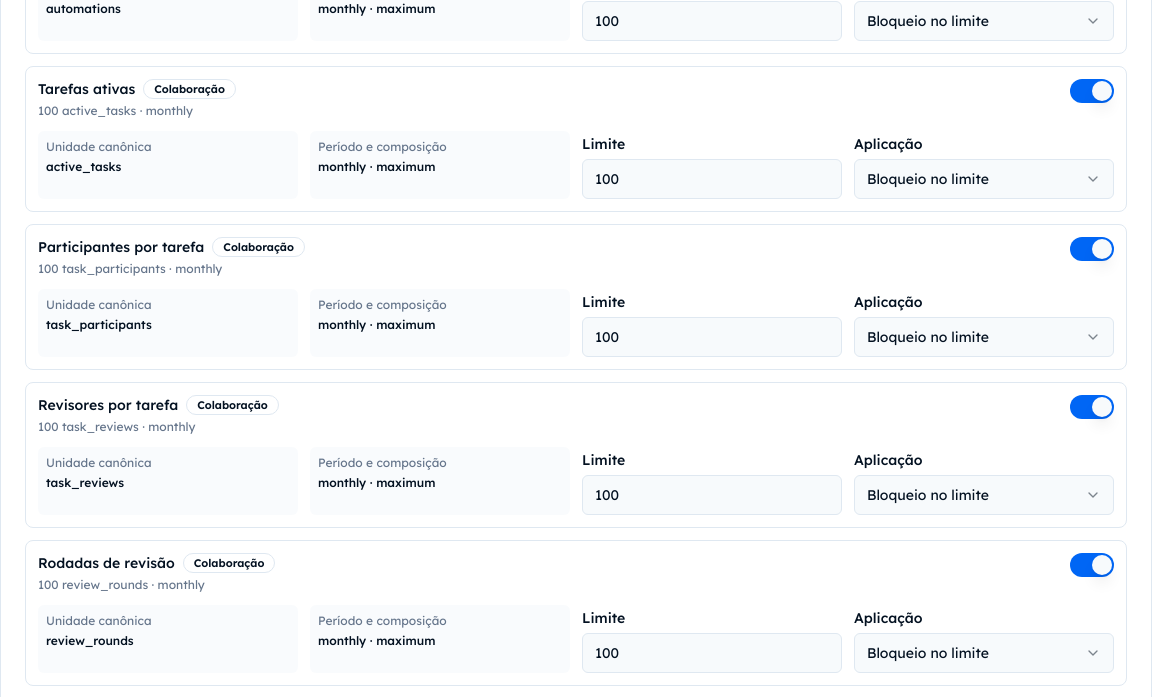
Scenario: PlatformCommercialCatalogPanel › blocks public publication when real AI cost evidence is insufficient
(page scrolled)
Replace the text in the 3rd number field labelled "Limite" with "9" at (712, 337), box [582,317,842,357]
(page scrolled)
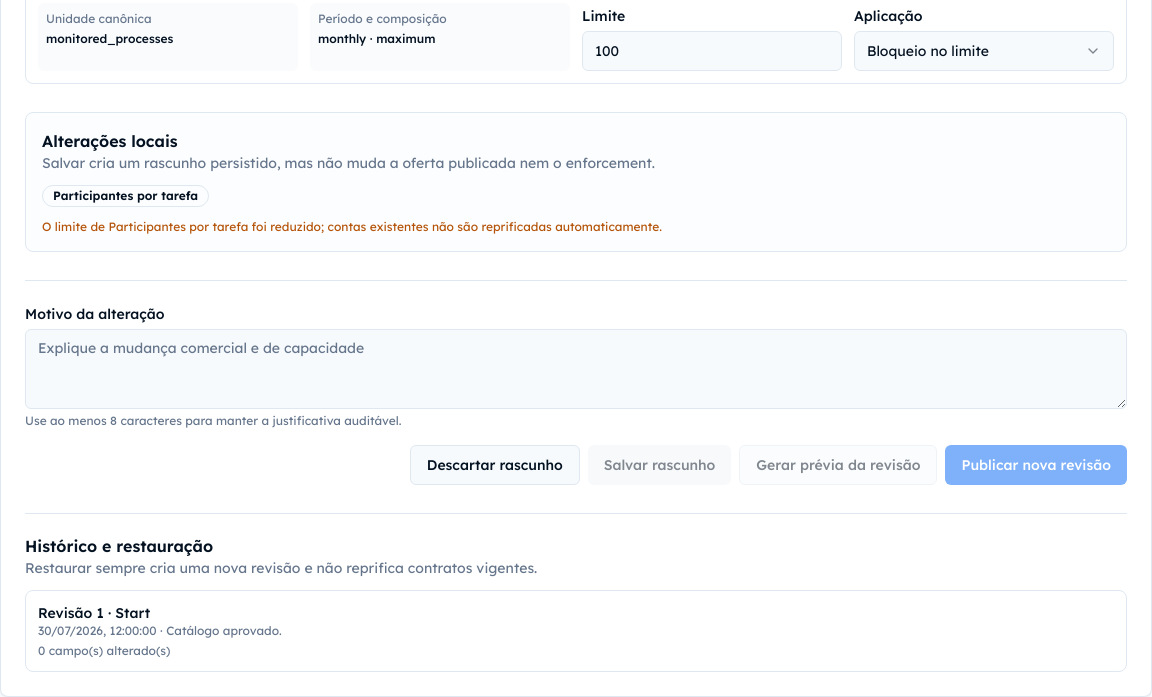
Type "Preparar publicação com novo limite." into the text box labelled "Motivo da alteração" at (576, 369), box [25,329,1127,409]
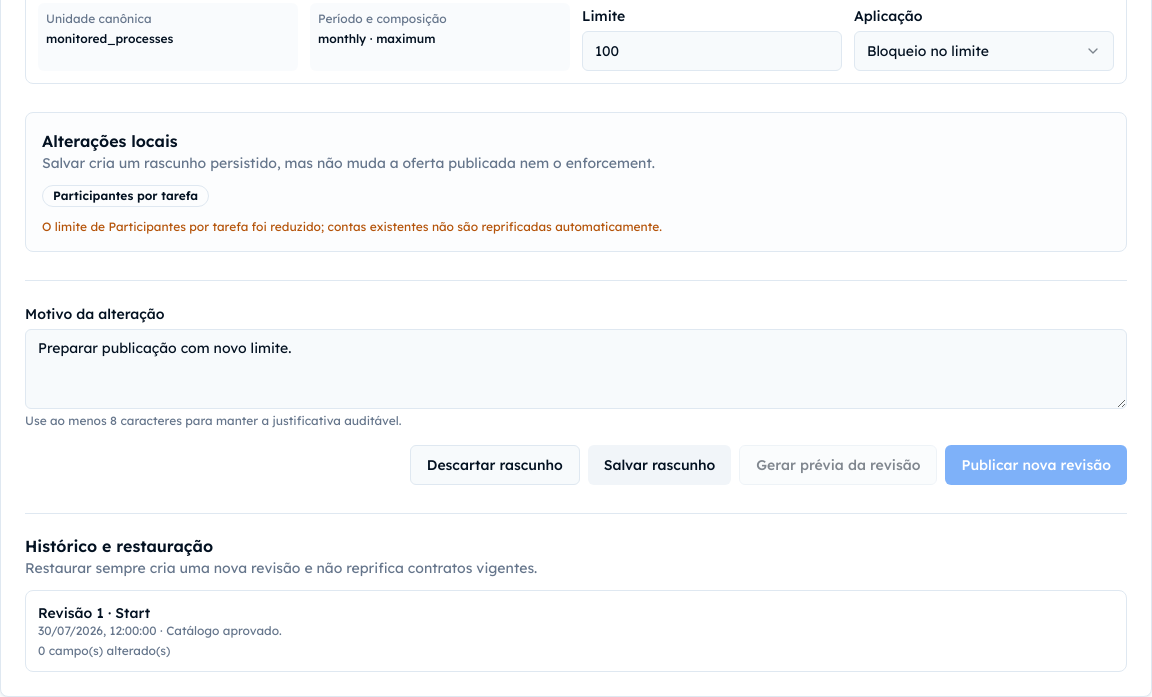
Click the button "Salvar rascunho" at (660, 465), box [588,445,731,485]
(page scrolled)
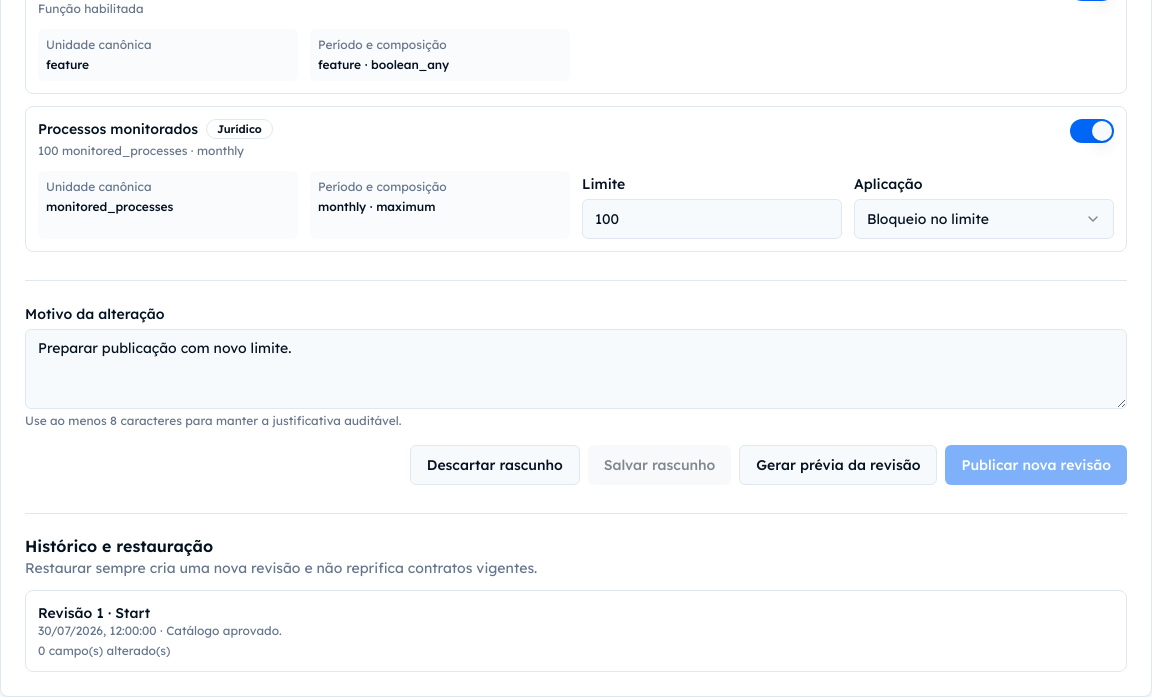
Click the button "Gerar prévia da revisão" at (838, 465), box [739,445,937,485]
(page scrolled)
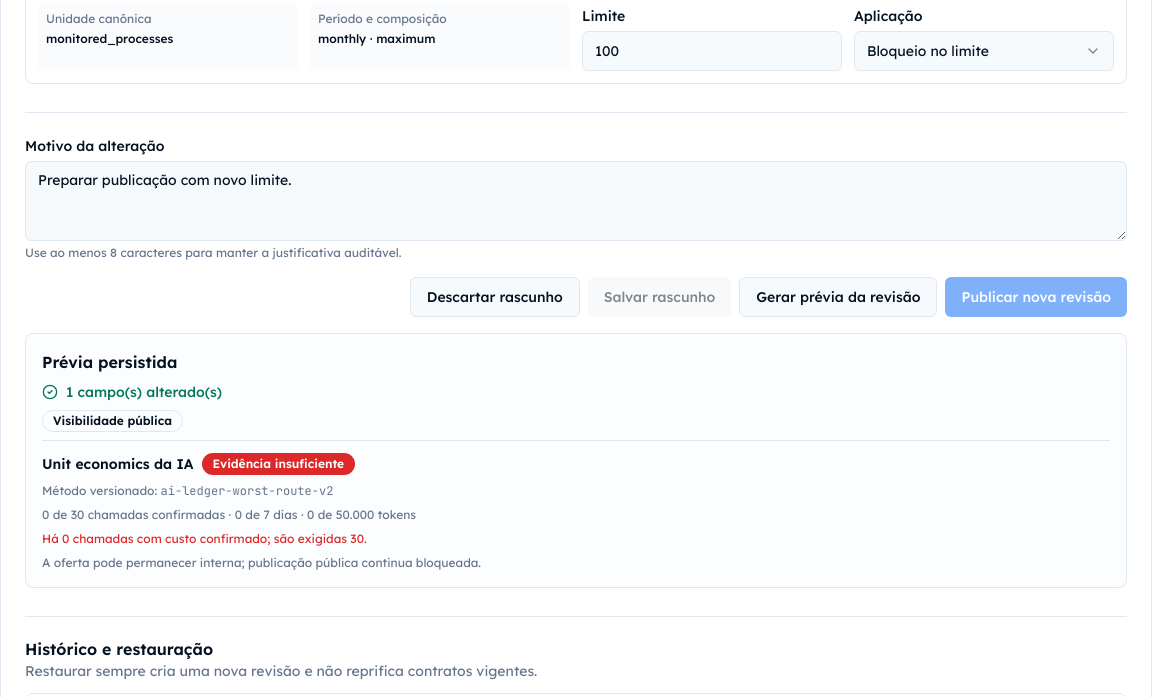
Expected: the button "Publicar nova revisão" is disabled, [945,277,1127,317]
Now the text "Evidência insuficiente" is shown, box [202,453,355,475]
Now the text "Há 0 chamadas com custo confirmado; são exigidas 30." is shown, box [42,531,367,546]
